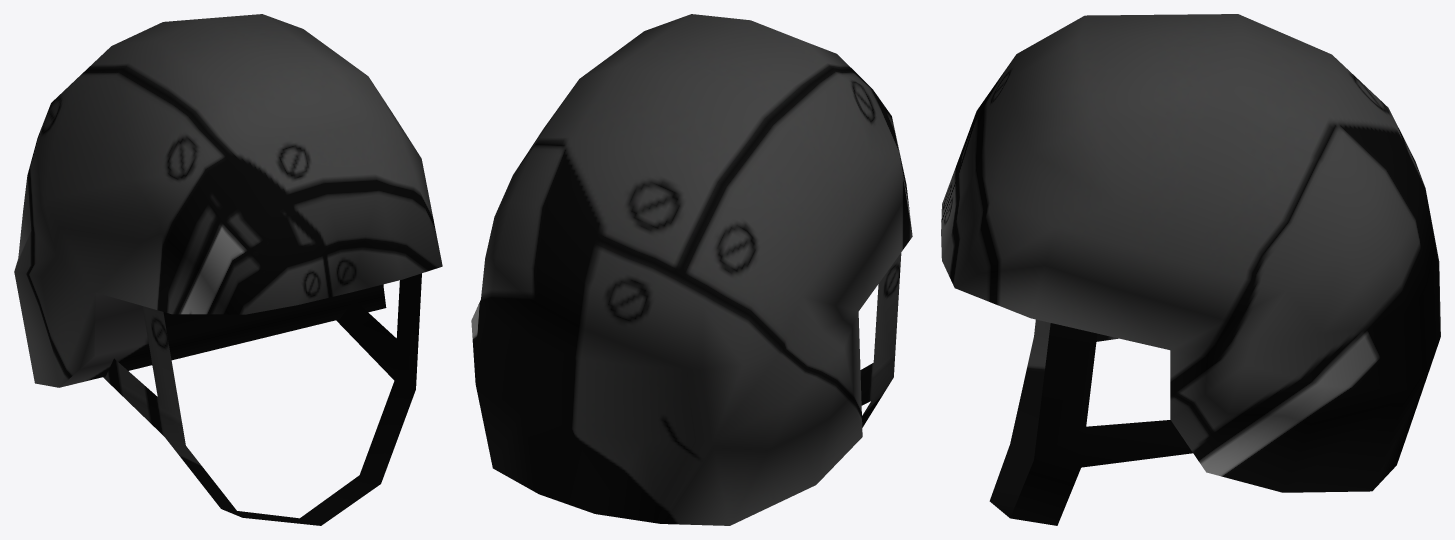
The model's file is mod_gear_head02.fbx.
3 renders of one model, left to right at view 1: azimuth 30°, elevation 25°; view 2: azimuth 150°, elevation 25°; view 3: azimuth 270°, elevation 25°, orthographic. The views are drawn at different scales.
Visible parts, largest first — view 1: mod_gear_head02; view 2: mod_gear_head02; view 3: mod_gear_head02.
Boxes of the visible parts, x1,y1,x2,y2 form: mod_gear_head02: (14,14,442,525); mod_gear_head02: (471,14,912,525); mod_gear_head02: (941,14,1440,525).
Size of the model in its own units: 19.82 by 24.92 by 23.83.
